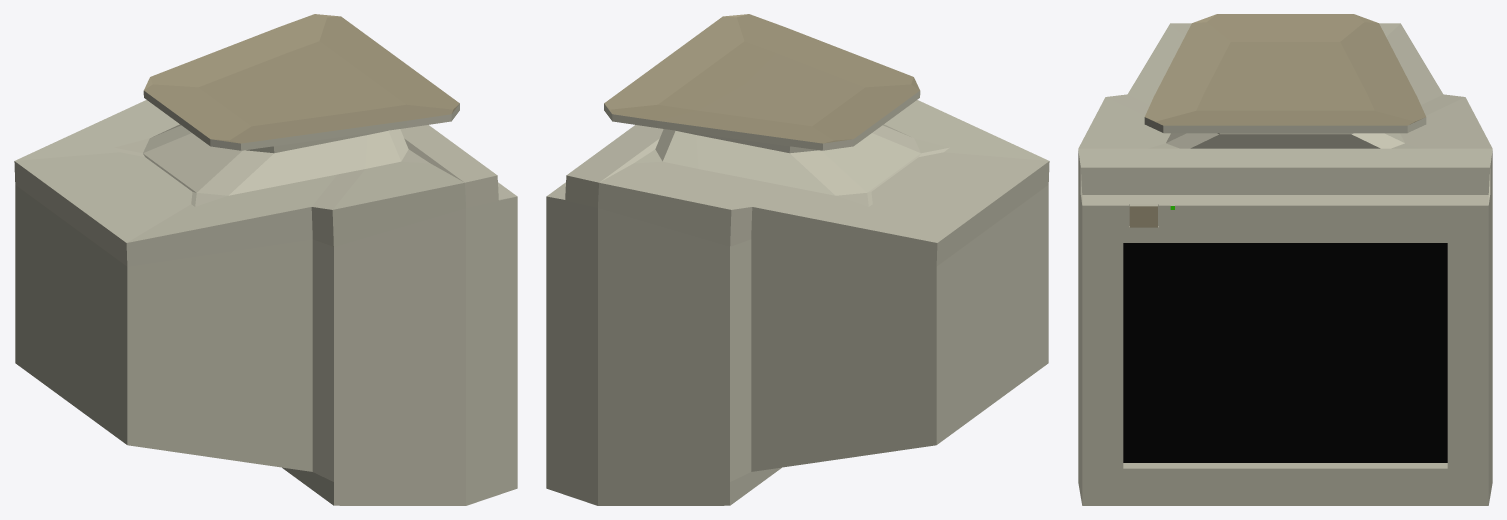
Rendered from rotinoM.glb.
The picture shows the model from 3 angles, left to right: view 1: azimuth 30°, elevation 25°; view 2: azimuth 150°, elevation 25°; view 3: azimuth 270°, elevation 25°; orthographic projection. The views are drawn at different scales.
Visible parts, largest first — view 1: Cubo; view 2: Cubo; view 3: Cubo.
Boxes of the visible parts, box(x1,y1,x2,y2) form: Cubo: box(14, 14, 517, 505); Cubo: box(546, 14, 1049, 505); Cubo: box(1078, 14, 1492, 505).
Bounding box in the file's own units: 4.17 × 4.15 × 4.17.
Materials: 3 (1 with a texture image).
